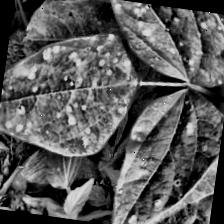Bean Rust: (0, 21, 140, 168), (108, 79, 224, 224), (68, 0, 224, 90)
